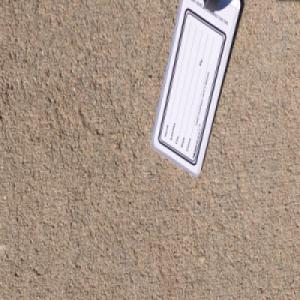LuggageTag: (150, 0, 241, 179)
